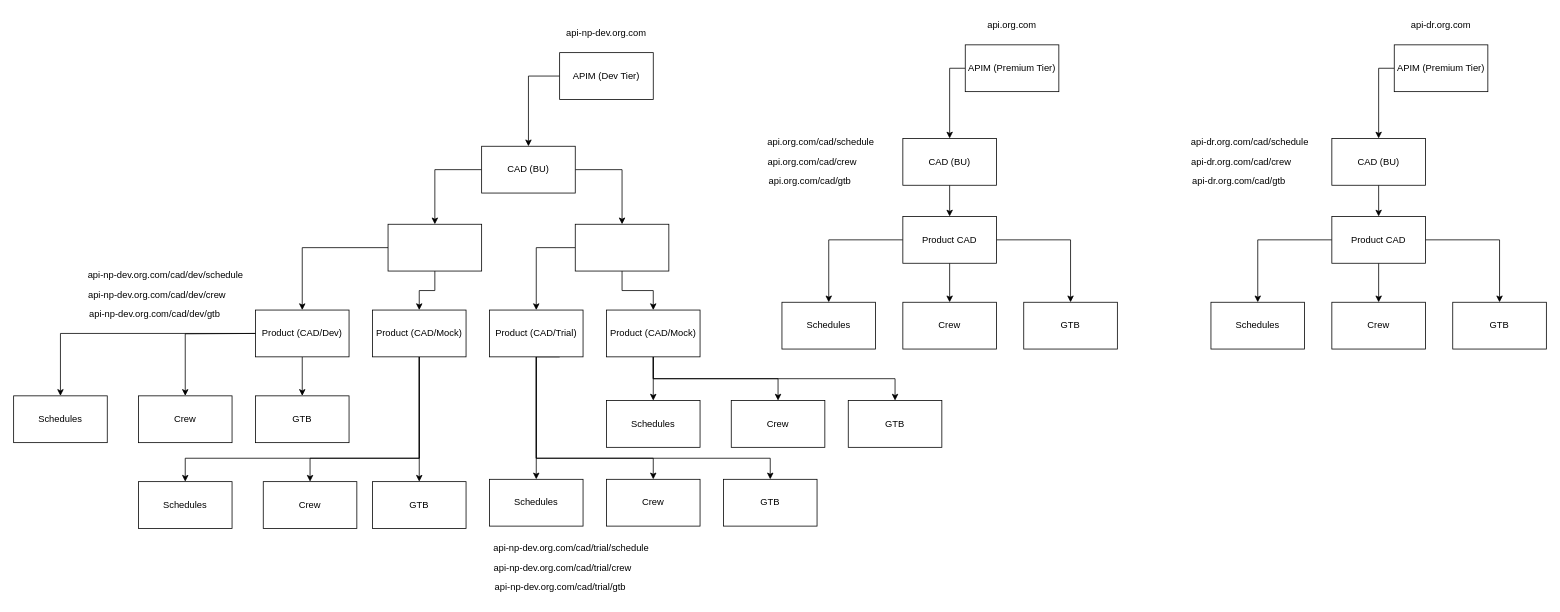
Some shapes in this 1560 by 612 pixel diagram are drawn without their labels. Each missing label, with the centre of its shape:
"Env (Dev)" goes at pixel 434 247.
"Env (Trial)" goes at pixel 621 247.
